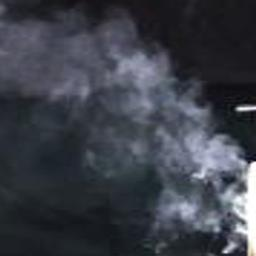smoke: (0, 9, 247, 255)
